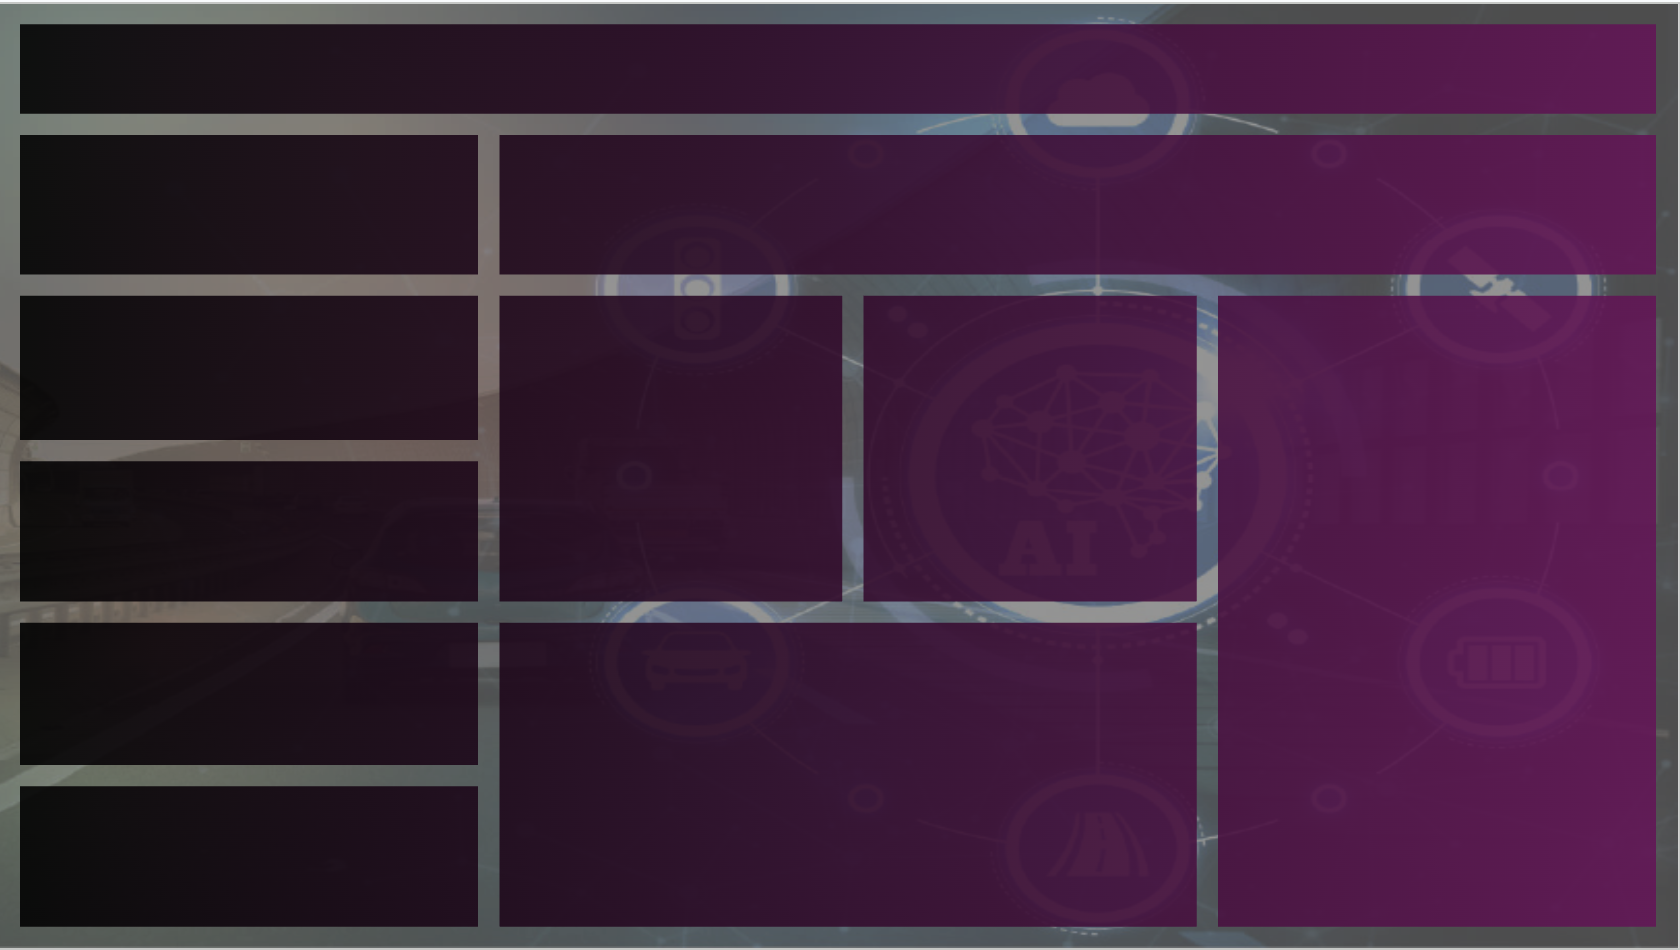

The dashboard page shown, as its layout file describes it:
{"tool":"tableau","page":{"name":"Dashboard","canvas":[1600,900],"ordinal":0},"visuals":[{"type":"image","param":"/Users/lia/Documents/Data analysis /Project /Accident analysis using tableau/BGI","box":[8,8,1584,884]},{"type":"parameter","param":"[Parameters].[Parameter 1]","box":[1086,32,154.3,78]},{"type":"parameter","param":"[Parameters].[Current Year (copy)_231653962337792001]","box":[1240.3,32,154.3,78]},{"type":"parameter","param":"[Parameters].[Parameter 2]","box":[1394.7,32,154.3,78]},{"type":"text","box":[49,41,559,70]},{"type":"text","box":[492,139,386,23]},{"type":"worksheet","title":"Total Accidents","mark":"Automatic","box":[50,144,205,110]},{"type":"worksheet","title":"Accident Sparkline","mark":"Automatic","rows":["CY Accidents (copy)_231653962338971651","Calculation_231653962338107394"],"cols":["Accident Date"],"box":[255,144,205,110]},{"type":"worksheet","title":"Vehicle type images","mark":"Shape","box":[494,158,1050,37]},{"type":"worksheet","title":"Vehical type KPI","mark":"Automatic","box":[494,195,1050,63]},{"type":"worksheet","title":"Weather condition","mark":"Pie","rows":["Calculation_155444623731793925","Calculation_155444623731830791"],"box":[486,285,322,276]},{"type":"worksheet","title":"Road Surface","mark":"Pie","rows":["Calculation_155444623731793925","Calculation_155444623731830791"],"box":[824,285,307,280]},{"type":"worksheet","title":"By Location","mark":"Automatic","rows":["Latitude"],"cols":["Longitude"],"box":[1156,288,396,575]},{"type":"worksheet","title":"Total Casualties","mark":"Automatic","box":[54,294,205,110]},{"type":"worksheet","title":"Total Casualties Sparkline","mark":"Automatic","rows":["CY Casualties (copy)_231653962344783878","Calculation_231653962343972869"],"cols":["Accident Date"],"box":[259,294,205,110]},{"type":"worksheet","title":"Fatal Casualties ","mark":"Automatic","box":[65,446,205,110]},{"type":"worksheet","title":"Fatal Sparkline ","mark":"Automatic","rows":["CY Fatal Casualties (copy)_231653962346463241","Calculation_231653962345951240"],"cols":["Accident Date"],"box":[270,446,205,110]},{"type":"worksheet","title":"Road Type","mark":"Automatic","rows":["Road_Type"],"cols":["Calculation_231653962343972869"],"box":[496,589,632,272]},{"type":"worksheet","title":"Serious Casualties ","mark":"Automatic","box":[39,590,205,110]},{"type":"worksheet","title":"Serious Sparkline ","mark":"Automatic","rows":["PY Fatal Casualties  (copy)_231653962347507725","CY Fatal Casualties (copy)_231653962347335692"],"cols":["Accident Date"],"box":[244,590,205,110]},{"type":"worksheet","title":"Slight Casualties","mark":"Automatic","box":[48,743,205,110]},{"type":"worksheet","title":"Slight Sparkline ","mark":"Automatic","rows":["PY Serious Casualties   (copy)_84161074555674625","CY Serious Casualties  (copy)_84161074555498496"],"cols":["Accident Date"],"box":[253,743,205,110]}]}

Visuals, with their boxes in screenshot pixels (x1, y1, x2, y2), scaled from the page's 1600x900 canvas onto the 1680x950 screenshot:
image: pyautogui.locateOnScreen(8, 8, 1672, 942)
parameter: pyautogui.locateOnScreen(1140, 34, 1302, 116)
parameter: pyautogui.locateOnScreen(1302, 34, 1464, 116)
parameter: pyautogui.locateOnScreen(1464, 34, 1626, 116)
text: pyautogui.locateOnScreen(51, 43, 638, 117)
text: pyautogui.locateOnScreen(517, 147, 922, 171)
"Total Accidents" worksheet: pyautogui.locateOnScreen(52, 152, 268, 268)
"Accident Sparkline" worksheet: pyautogui.locateOnScreen(268, 152, 483, 268)
"Vehicle type images" worksheet (Shape marks): pyautogui.locateOnScreen(519, 167, 1621, 206)
"Vehical type KPI" worksheet: pyautogui.locateOnScreen(519, 206, 1621, 272)
"Weather condition" worksheet (Pie marks): pyautogui.locateOnScreen(510, 301, 848, 592)
"Road Surface" worksheet (Pie marks): pyautogui.locateOnScreen(865, 301, 1188, 596)
"By Location" worksheet: pyautogui.locateOnScreen(1214, 304, 1630, 911)
"Total Casualties" worksheet: pyautogui.locateOnScreen(57, 310, 272, 426)
"Total Casualties Sparkline" worksheet: pyautogui.locateOnScreen(272, 310, 487, 426)
"Fatal Casualties " worksheet: pyautogui.locateOnScreen(68, 471, 284, 587)
"Fatal Sparkline " worksheet: pyautogui.locateOnScreen(284, 471, 499, 587)
"Road Type" worksheet: pyautogui.locateOnScreen(521, 622, 1184, 909)
"Serious Casualties " worksheet: pyautogui.locateOnScreen(41, 623, 256, 739)
"Serious Sparkline " worksheet: pyautogui.locateOnScreen(256, 623, 471, 739)
"Slight Casualties" worksheet: pyautogui.locateOnScreen(50, 784, 266, 900)
"Slight Sparkline " worksheet: pyautogui.locateOnScreen(266, 784, 481, 900)
